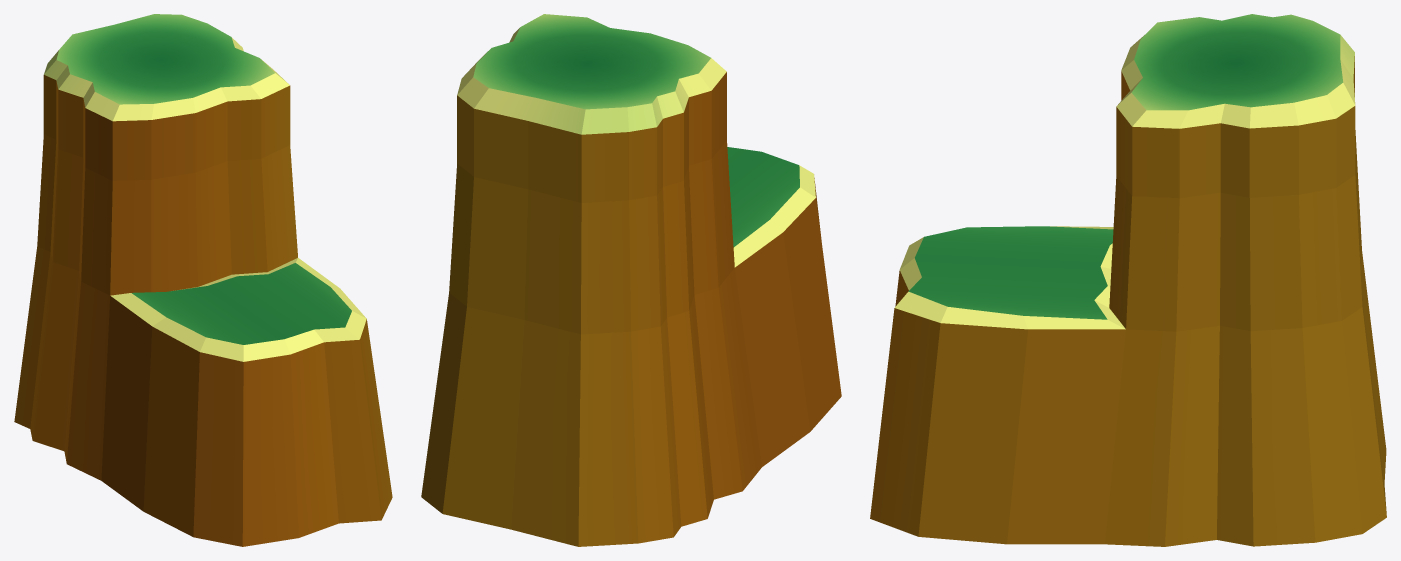
The model's file is cliff_2.fbx.
The picture shows the model from 3 angles, left to right: view 1: azimuth 30°, elevation 25°; view 2: azimuth 150°, elevation 25°; view 3: azimuth 270°, elevation 25°; orthographic projection. The views are drawn at different scales.
Parts seen in each view (by area): view 1: Plane; view 2: Plane; view 3: Plane.
Part boxes in pixels (bbox=[...]): Plane: bbox=[14, 14, 392, 546]; Plane: bbox=[421, 14, 841, 546]; Plane: bbox=[870, 14, 1386, 546].
Bounding box in the file's own units: 1058 × 1602 × 1772.
